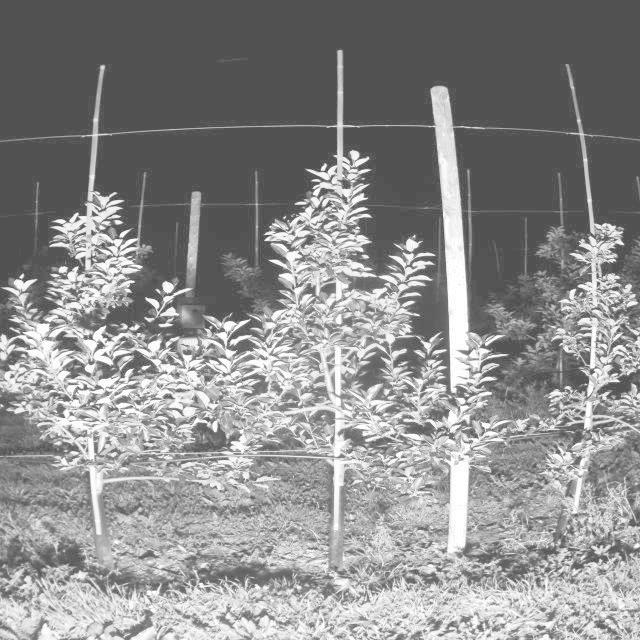Tree: (0, 141, 222, 544), (274, 152, 408, 538), (570, 216, 640, 517)
